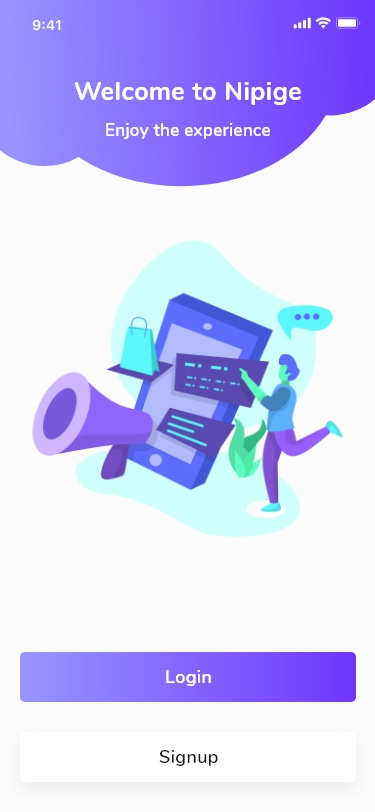Image: (32, 240, 344, 537)
Text: (74, 82, 302, 107), (106, 123, 271, 141)
TextButton: (21, 652, 357, 703), (21, 731, 357, 782)
UpperTaskBar: (33, 17, 361, 32)
